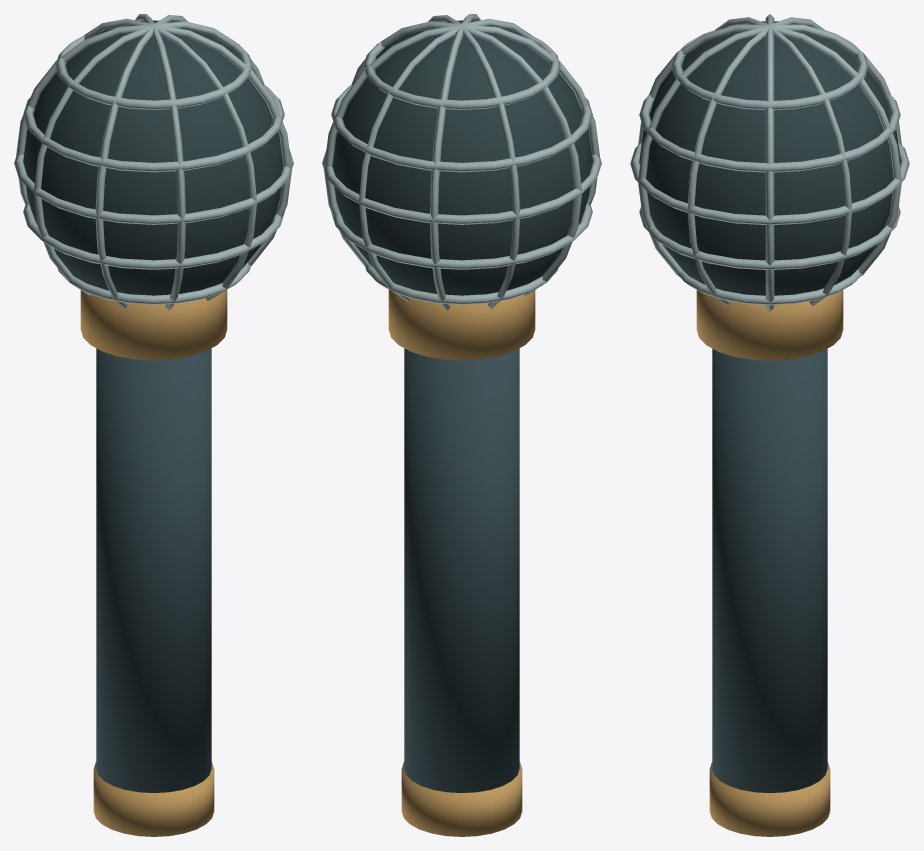
The model's file is microphone.glb.
3 renders of one model, left to right at view 1: azimuth 30°, elevation 25°; view 2: azimuth 150°, elevation 25°; view 3: azimuth 270°, elevation 25°, orthographic.
Parts seen in each view (by area): view 1: Handle, Capsule, Collar, GripEnd, GrilleRing.003, GrilleRing.002, GrilleRing.001, GrilleRing.004, GrilleStrand.007, GrilleStrand.006, GrilleStrand.005, GrilleStrand.009 (+4 smaller); view 2: Handle, Capsule, Collar, GripEnd, GrilleRing.003, GrilleRing.002, GrilleRing.001, GrilleRing.004, GrilleStrand.003, GrilleStrand.004, GrilleStrand.005, GrilleStrand.001 (+4 smaller); view 3: Handle, Capsule, Collar, GripEnd, GrilleRing.003, GrilleRing.002, GrilleRing.001, GrilleStrand, GrilleRing.004, GrilleStrand.002, GrilleStrand.008, GrilleStrand.001 (+4 smaller).
Part boxes in pixels (x1,y1,x2,y2): Handle: [96, 348, 211, 792]; Capsule: [23, 20, 283, 295]; Collar: [80, 290, 227, 360]; GripEnd: [93, 762, 214, 836]; GrilleRing.003: [23, 84, 284, 172]; GrilleRing.002: [14, 150, 293, 224]; GrilleRing.001: [23, 201, 284, 269]; GrilleRing.004: [55, 35, 252, 109]; GrilleStrand.007: [152, 24, 185, 310]; GrilleStrand.006: [95, 24, 153, 308]; GrilleStrand.005: [34, 24, 153, 295]; GrilleStrand.009: [155, 24, 291, 265]; Handle: [404, 348, 519, 792]; Capsule: [332, 20, 592, 295]; Collar: [388, 290, 535, 360]; GripEnd: [401, 762, 522, 836]; GrilleRing.003: [331, 84, 592, 172]; GrilleRing.002: [322, 150, 601, 224]; GrilleRing.001: [331, 201, 592, 269]; GrilleRing.004: [363, 35, 560, 109]; GrilleStrand.003: [430, 24, 463, 310]; GrilleStrand.004: [462, 24, 520, 308]; GrilleStrand.005: [462, 24, 581, 295]; GrilleStrand.001: [324, 24, 460, 265]; Handle: [712, 348, 827, 792]; Capsule: [639, 21, 900, 295]; Collar: [696, 290, 843, 360]; GripEnd: [709, 762, 830, 836]; GrilleRing.003: [639, 95, 900, 172]; GrilleRing.002: [630, 143, 909, 224]; GrilleRing.001: [639, 207, 900, 269]; GrilleStrand: [765, 25, 774, 311]; GrilleRing.004: [671, 30, 868, 110]; GrilleStrand.002: [771, 25, 901, 275]; GrilleStrand.008: [638, 25, 768, 275]; GrilleStrand.001: [770, 25, 851, 306].
Bounding box in the file's own units: 0.0534 × 0.1658 × 0.0534.
